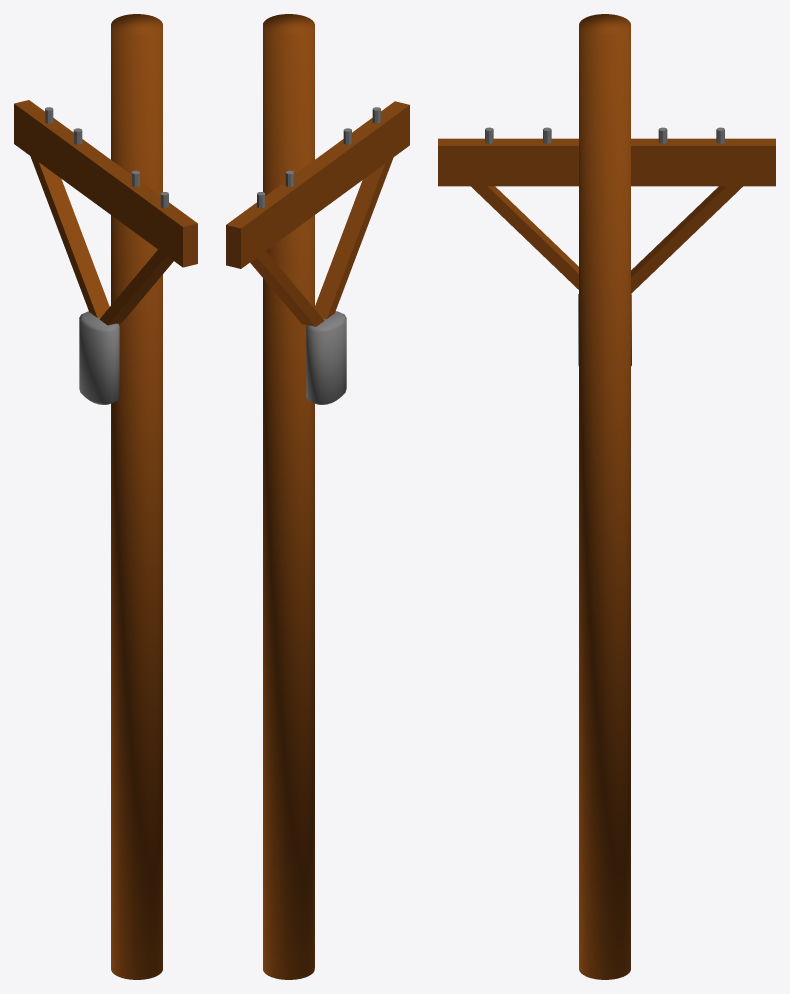
The model's file is PowerPole.fbx.
3 views of the same model, side by side, from view 1: azimuth 30°, elevation 25°; view 2: azimuth 150°, elevation 25°; view 3: azimuth 270°, elevation 25° (orthographic).
Parts seen in each view (by area): view 1: Power Pole, Brace, Transformer; view 2: Power Pole, Brace, Transformer; view 3: Power Pole, Brace.
Part boxes in pixels (box(x1,y1,x2,y2)): Power Pole: box(111, 14, 162, 979); Brace: box(14, 100, 197, 325); Transformer: box(79, 311, 119, 404); Power Pole: box(263, 14, 314, 979); Brace: box(226, 101, 409, 326); Transformer: box(306, 311, 346, 404); Power Pole: box(579, 14, 630, 979); Brace: box(438, 138, 775, 293).
Size of the model in its own units: 50 by 600 by 195.
